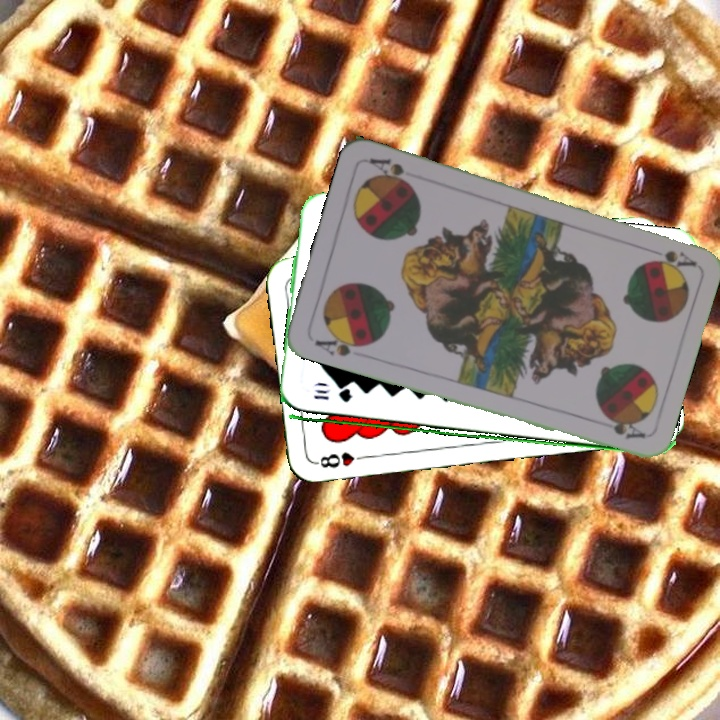G10: (310, 385, 354, 405)
H8: (311, 448, 371, 471)
SA: (310, 329, 370, 359), (655, 246, 698, 269)
